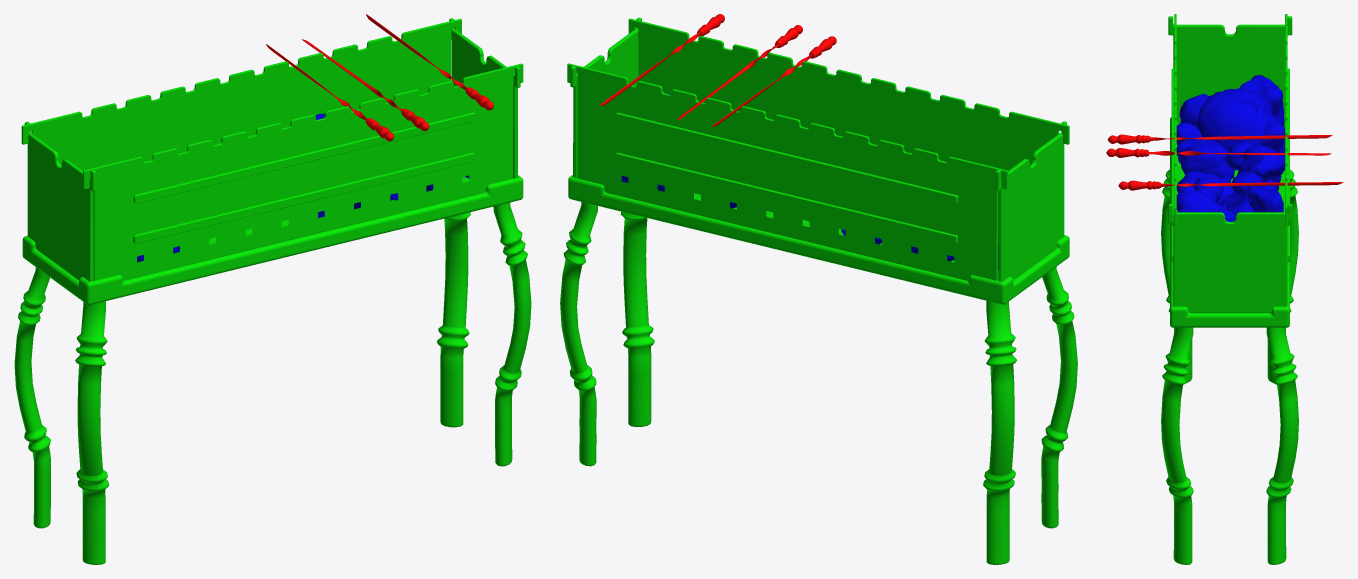
File: Chargrill_high.fbx
The picture shows the model from 3 angles, left to right: view 1: azimuth 30°, elevation 25°; view 2: azimuth 150°, elevation 25°; view 3: azimuth 270°, elevation 25°; orthographic projection. The views are drawn at different scales.
Visible parts, largest first — view 1: WideSide_1.001_high, WideSide_2.001_high, Leg.001_high, Tray.002_high, NarrowSideL.001_high, NarrowSideR.001_high, Skewer_high.001, Skewer_high.002; view 2: WideSide_2.001_high, WideSide_1.001_high, Leg.001_high, Tray.002_high, NarrowSideL.001_high, NarrowSideR.001_high, Skewer_high.001, Skewer_high.002; view 3: Leg.001_high, NarrowSideR.001_high, NarrowSideL.001_high, rock.051, Tray.002_high, rock.027, WideSide_1.001_high, WideSide_2.001_high, Skewer_high.002, Skewer_high.001, rock.030, rock.036 (+13 smaller).
Boxes of the visible parts, left/top/right/bottom form: WideSide_1.001_high: left=83, top=63, right=523, bottom=280; WideSide_2.001_high: left=21, top=18, right=461, bottom=170; Leg.001_high: left=14, top=202, right=531, bottom=564; Tray.002_high: left=22, top=175, right=523, bottom=304; NarrowSideL.001_high: left=24, top=121, right=96, bottom=281; NarrowSideR.001_high: left=449, top=18, right=520, bottom=178; Skewer_high.001: left=366, top=14, right=493, bottom=110; Skewer_high.002: left=266, top=44, right=394, bottom=141; WideSide_2.001_high: left=567, top=63, right=1008, bottom=280; WideSide_1.001_high: left=628, top=18, right=1069, bottom=170; Leg.001_high: left=560, top=202, right=1077, bottom=564; Tray.002_high: left=568, top=175, right=1069, bottom=304; NarrowSideL.001_high: left=995, top=121, right=1066, bottom=281; NarrowSideR.001_high: left=570, top=17, right=641, bottom=177; Skewer_high.001: left=600, top=14, right=724, bottom=105; Skewer_high.002: left=712, top=36, right=836, bottom=126; Leg.001_high: left=1161, top=169, right=1298, bottom=564; NarrowSideR.001_high: left=1168, top=204, right=1292, bottom=312; NarrowSideL.001_high: left=1168, top=16, right=1292, bottom=123; rock.051: left=1196, top=88, right=1273, bottom=150; Tray.002_high: left=1170, top=117, right=1289, bottom=327; rock.027: left=1181, top=143, right=1231, bottom=182; WideSide_1.001_high: left=1171, top=14, right=1176, bottom=261; WideSide_2.001_high: left=1285, top=14, right=1289, bottom=303; Skewer_high.002: left=1107, top=134, right=1332, bottom=144; Skewer_high.001: left=1118, top=180, right=1343, bottom=190; rock.030: left=1237, top=151, right=1284, bottom=182; rock.036: left=1239, top=75, right=1284, bottom=125.
Size of the model in its own units: 70.24 by 59.22 by 35.29.
